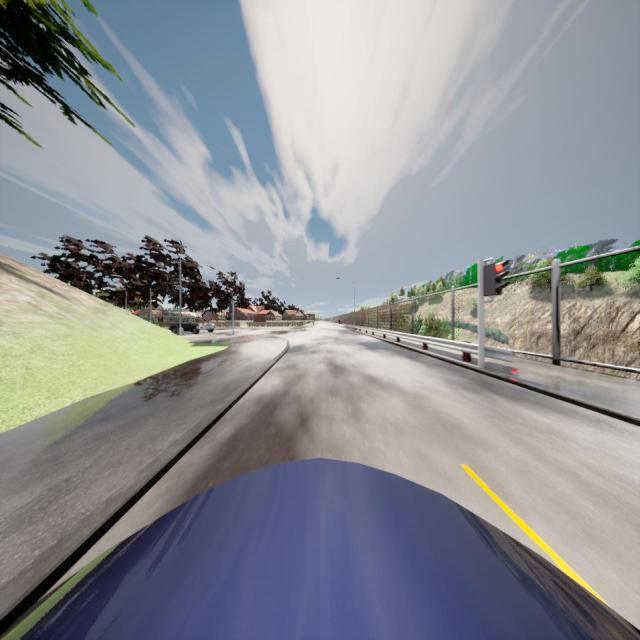Pedestrian: (338, 318, 340, 326)
Vehicle: (0, 456, 640, 640), (169, 317, 216, 333)
traffic_light: (484, 260, 508, 295), (229, 304, 233, 312)
